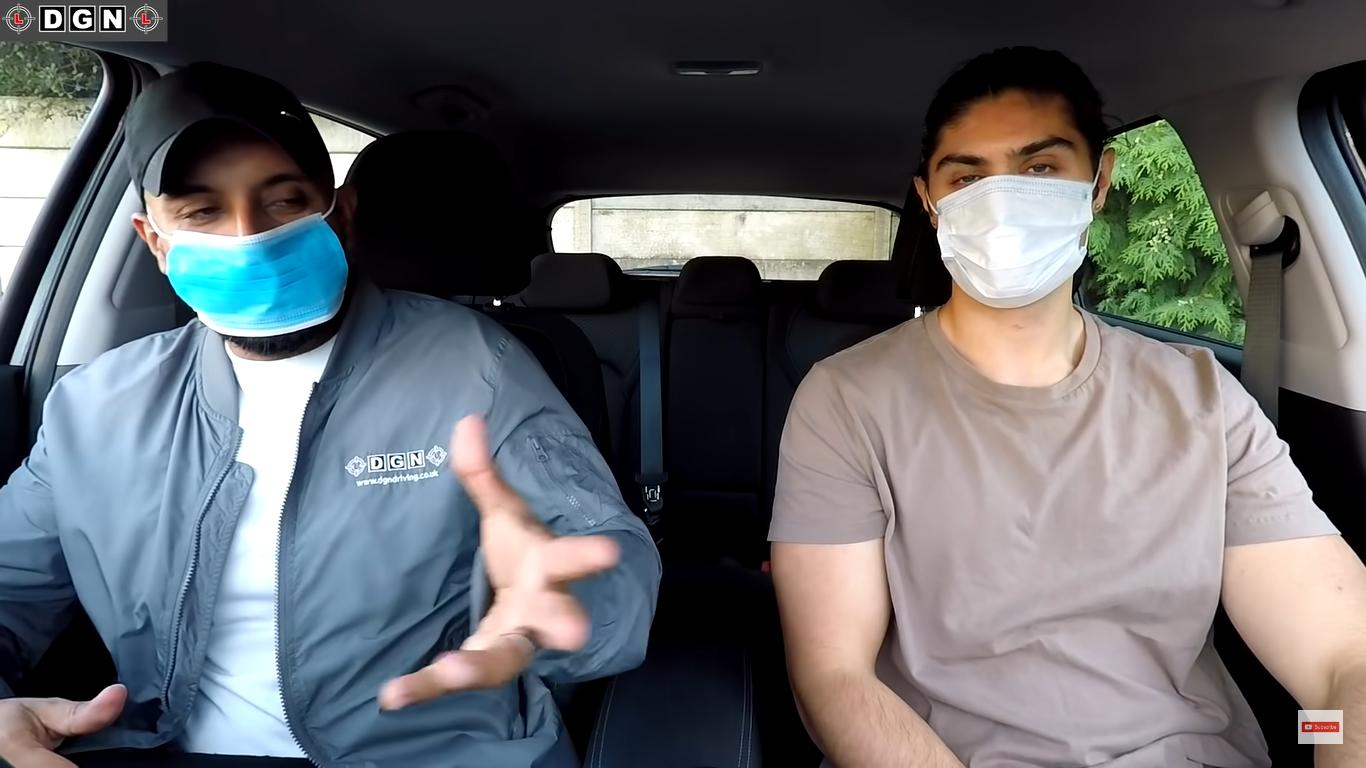no-seatbelt: (879, 339, 1255, 732), (107, 355, 471, 733)
